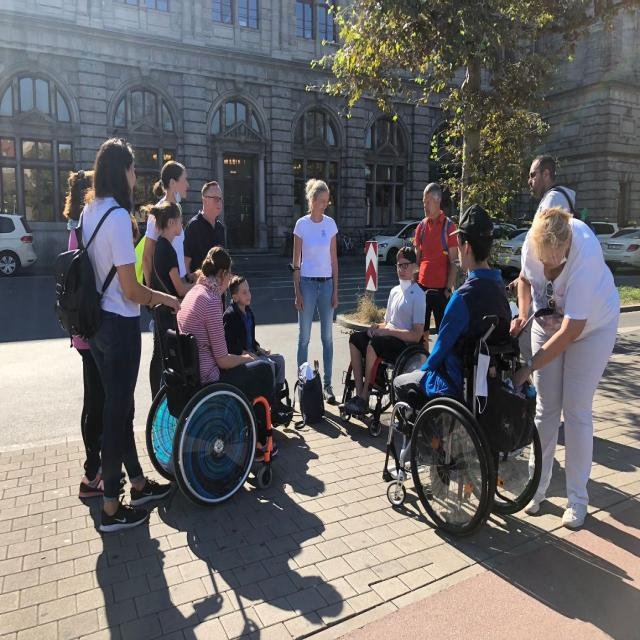wheelchairs: (385, 294, 560, 538), (141, 286, 286, 514), (339, 267, 426, 422)
